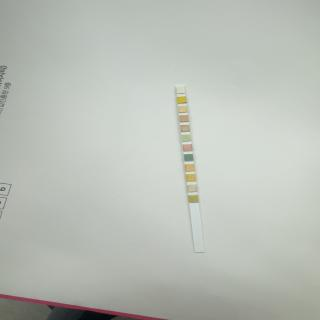mark: (182, 144, 192, 152), (184, 154, 193, 162), (188, 185, 197, 193), (180, 115, 189, 122), (181, 125, 190, 132), (186, 164, 195, 171), (186, 174, 195, 181), (189, 195, 198, 202), (178, 106, 188, 112), (177, 97, 186, 103), (182, 135, 191, 141), (177, 88, 185, 94)
